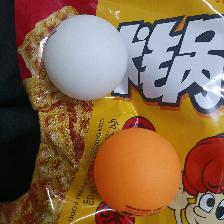WhiteBall: (42, 13, 127, 101)
YellowBall: (93, 126, 181, 217)
